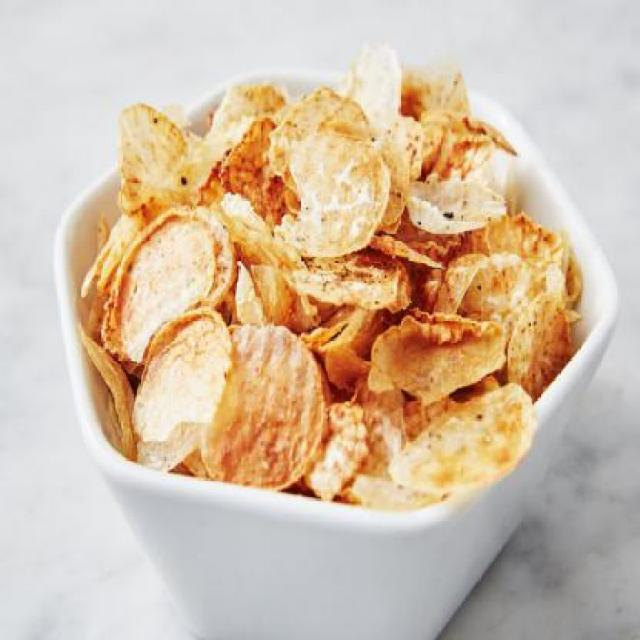Chips packaged: (90, 73, 558, 507)
